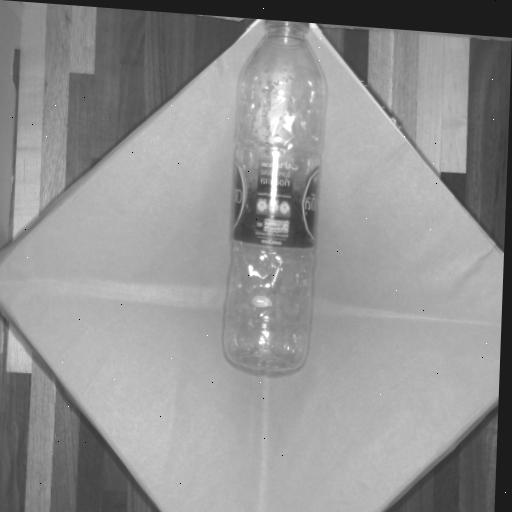bottle: (210, 17, 336, 384)
